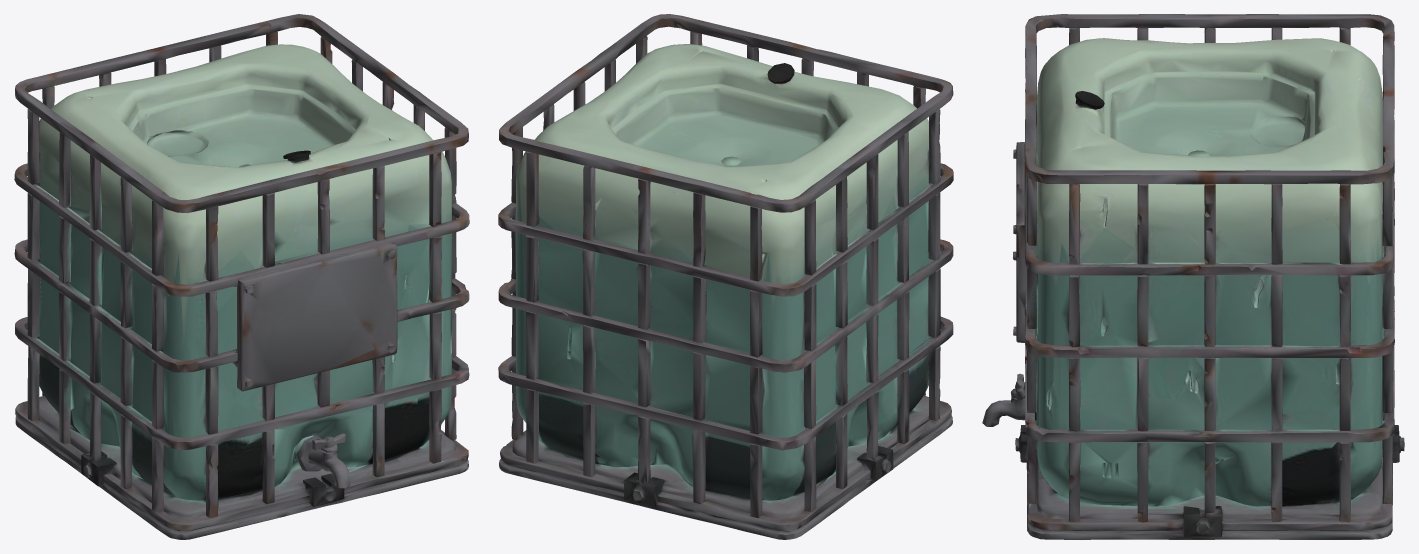
The model's file is tank_water_plastikovyy_1000_l_idle.glb.
3 renders of one model, left to right at view 1: azimuth 30°, elevation 25°; view 2: azimuth 150°, elevation 25°; view 3: azimuth 270°, elevation 25°, orthographic. The views are drawn at different scales.
Parts seen in each view (by area): view 1: tripo_node_f6bd6aaa-083a-4161-91d3-598442daf70f; view 2: tripo_node_f6bd6aaa-083a-4161-91d3-598442daf70f; view 3: tripo_node_f6bd6aaa-083a-4161-91d3-598442daf70f.
Part boxes in pixels (x1,y1,x2,y2): tripo_node_f6bd6aaa-083a-4161-91d3-598442daf70f: [14, 14, 469, 539]; tripo_node_f6bd6aaa-083a-4161-91d3-598442daf70f: [498, 14, 953, 539]; tripo_node_f6bd6aaa-083a-4161-91d3-598442daf70f: [982, 14, 1404, 539].
Bounding box in the file's own units: 1.88 × 1.9 × 1.98.
Materials: 1 (1 with a texture image).
